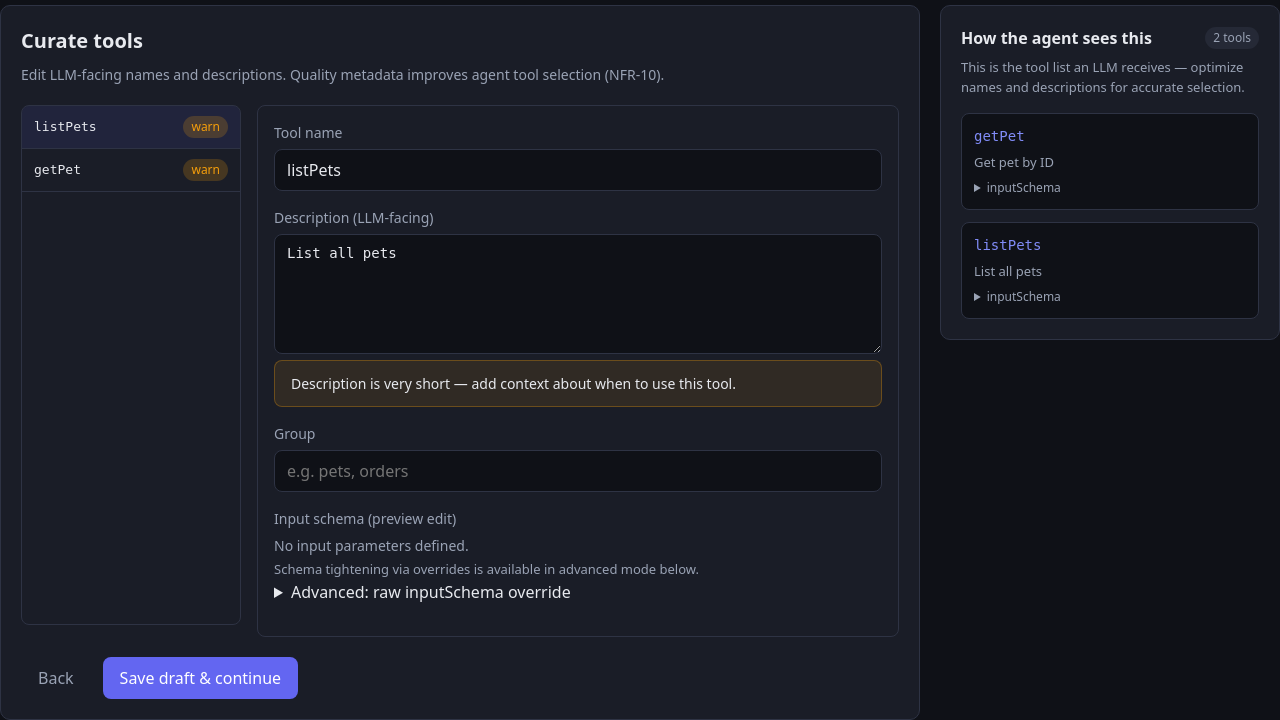
Test case: WizardShell › creates MCP on first save draft from curate step
(page scrolled)
expect the heading "Curate tools" is shown: met, box [21, 27, 143, 54]
Click the button "Save draft & continue".
click(200, 678)  # box [103, 656, 298, 698]
(page scrolled)
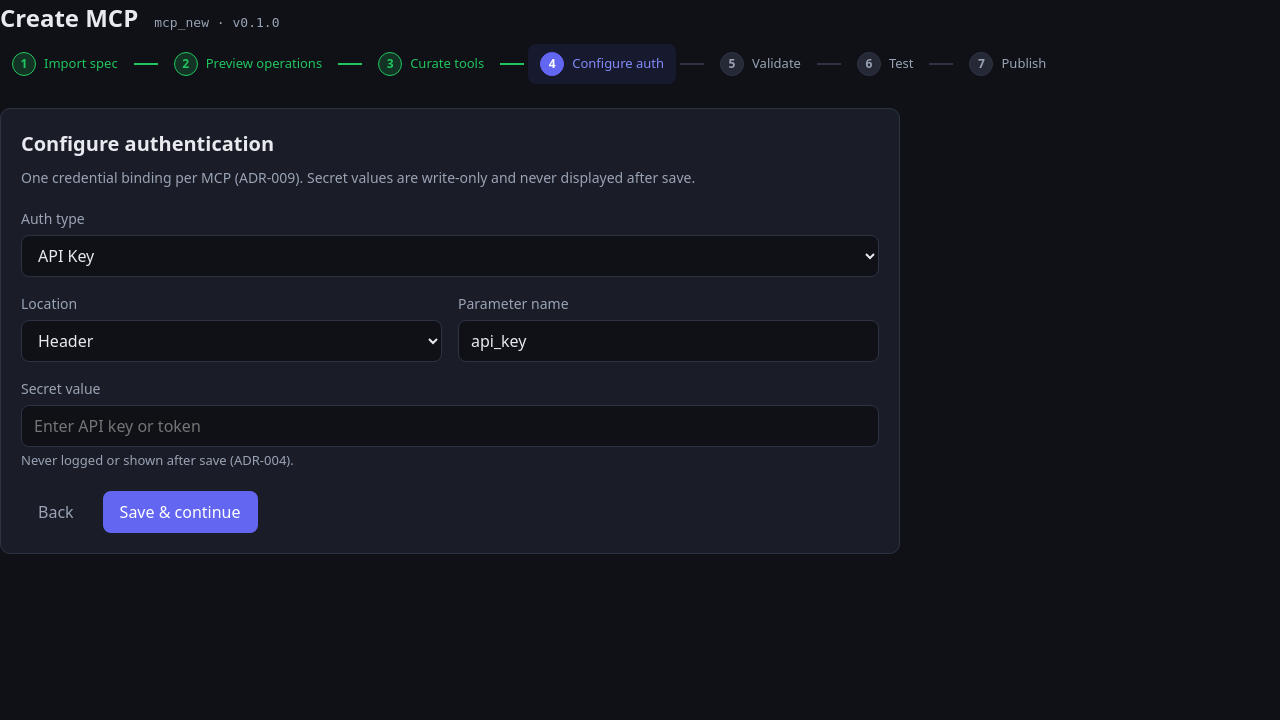
expect the text "mcp_new · v0.1.0" is shown: met, box [154, 13, 280, 32]
